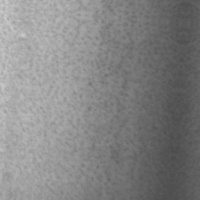pitted_surface: (68, 16, 185, 196), (0, 9, 109, 199)
